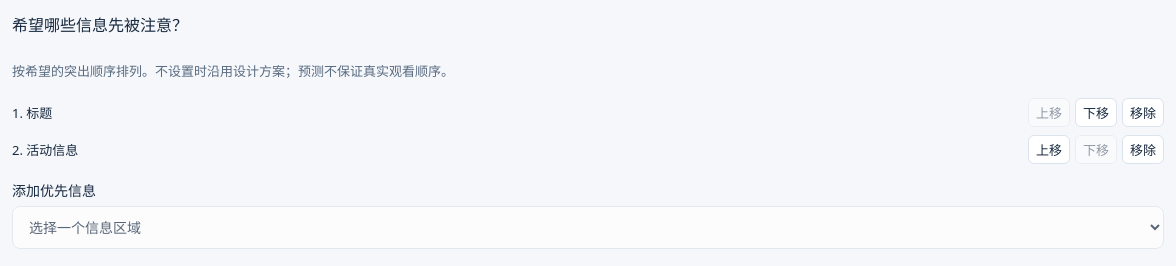
Test: controlled design requests › reorders and removes priorities
Click the button with aria-label "上移活动信息" at coordinates (1049, 150), box [1028,135,1070,164]
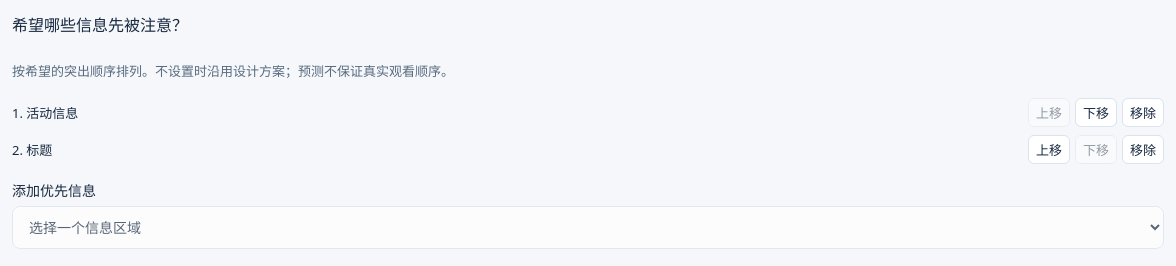
Expected: the text "1. 活动信息" is shown, [12,103,78,122]
Click the button with aria-label "移除标题优先级" at coordinates (1143, 150), box [1122,135,1164,164]
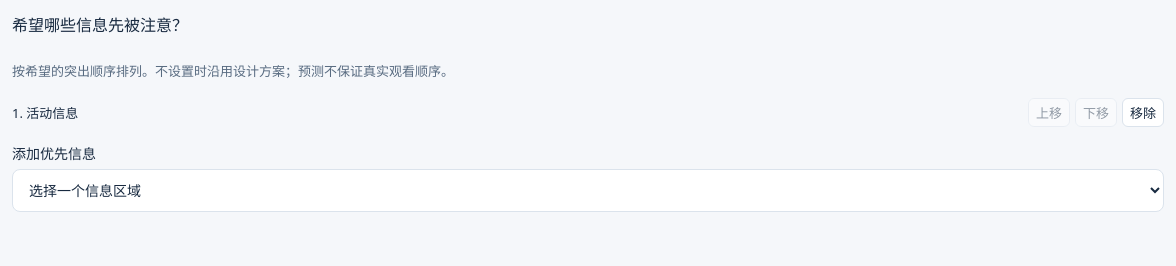
Expected: the button "移除标题优先级" is gone
